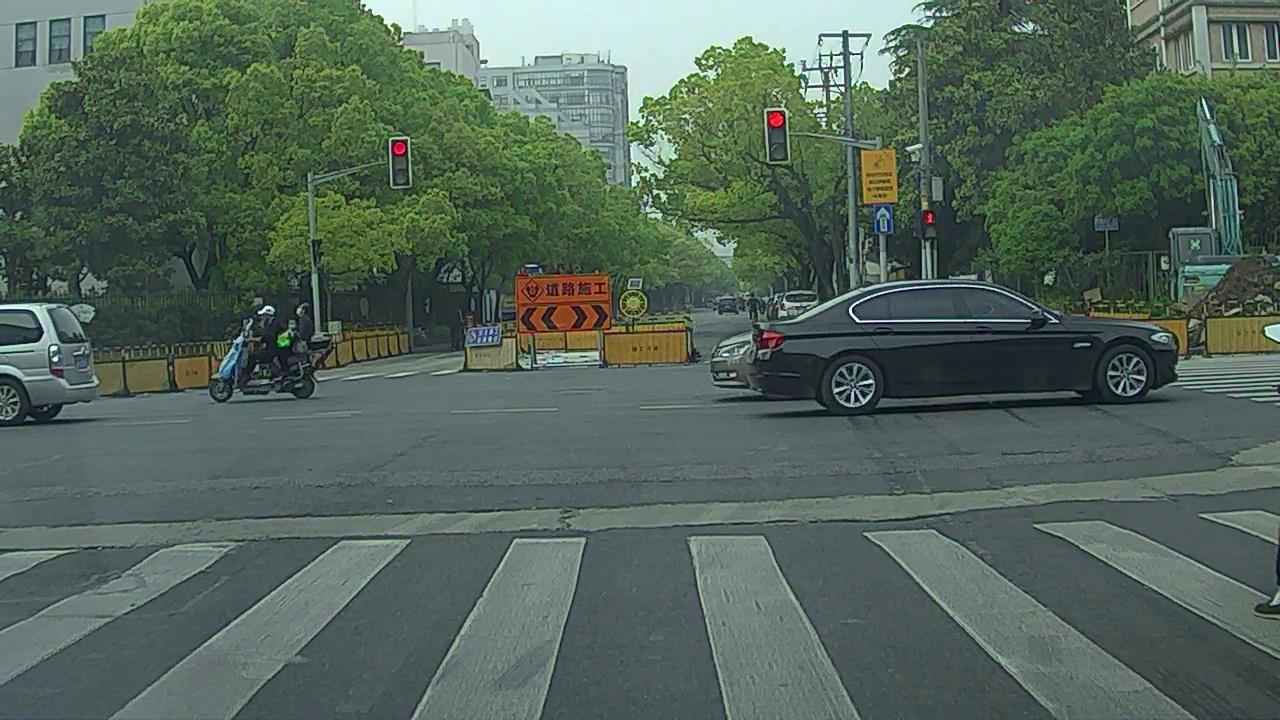traffic_light: (766, 108, 787, 163), (391, 137, 409, 186)
